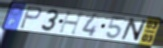3: (40, 8, 60, 33)
4: (81, 13, 99, 38)
5: (105, 16, 128, 40)
H: (57, 10, 87, 36)
N: (119, 18, 148, 43)
P: (18, 5, 43, 31)
